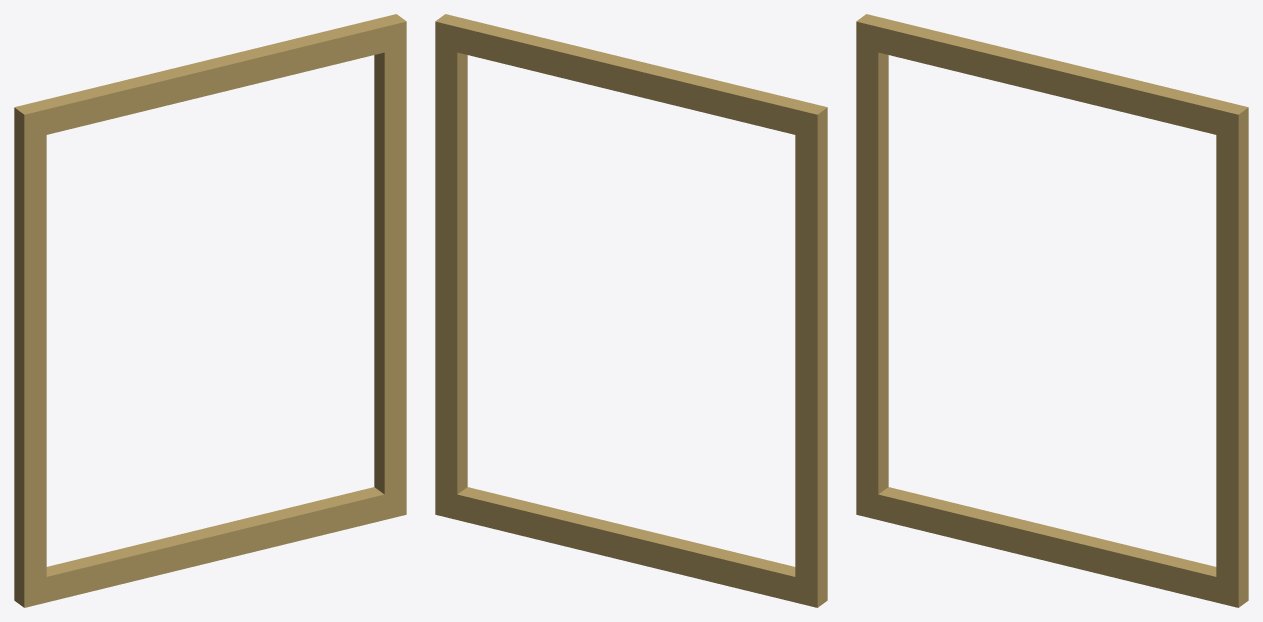
Rendered from portaretrato_generico.glb.
3 renders of one model, left to right at view 1: azimuth 30°, elevation 25°; view 2: azimuth 150°, elevation 25°; view 3: azimuth 330°, elevation 25°, orthographic.
Visible parts, largest first — view 1: Marco_Borde; view 2: Marco_Borde; view 3: Marco_Borde.
Boxes of the visible parts, box(x1,y1,x2,y2) form: Marco_Borde: box(14, 14, 406, 607); Marco_Borde: box(435, 14, 827, 607); Marco_Borde: box(856, 14, 1248, 607).
Size of the model in its own units: 0.86 by 1.06 by 0.04.
